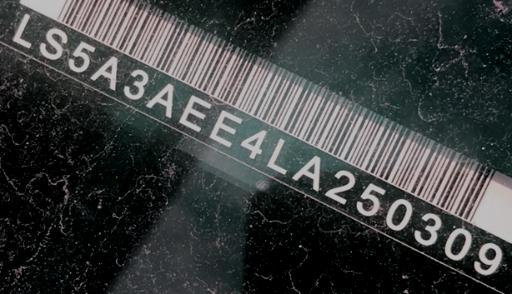letter: (177, 92, 211, 133), (208, 108, 242, 147), (322, 167, 356, 206), (290, 154, 322, 194), (354, 181, 388, 216), (145, 81, 175, 120), (89, 52, 119, 91), (472, 240, 504, 276), (38, 27, 68, 63), (384, 196, 414, 231), (413, 211, 443, 246), (443, 225, 473, 260), (66, 38, 96, 73), (10, 11, 34, 51), (265, 137, 289, 175), (122, 69, 150, 100), (239, 129, 267, 159)
